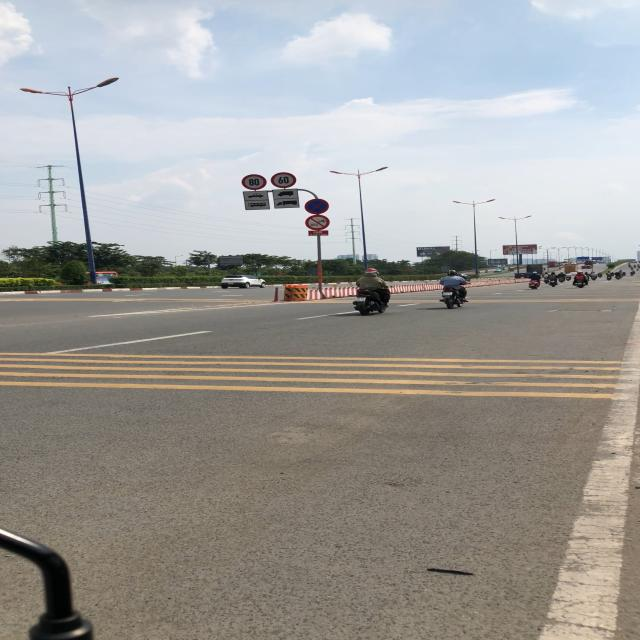Bien bao cam dung xe va do xe: (303, 198, 329, 215)
Bien bao toc do toi da cho phep: (240, 172, 268, 192), (267, 171, 298, 189)
